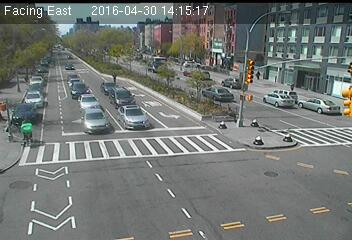neg: (12, 111, 39, 146), (110, 40, 132, 68), (157, 36, 176, 61), (34, 46, 49, 67), (8, 66, 23, 85), (85, 41, 99, 60)
pos: (108, 68, 121, 85), (287, 80, 298, 94), (253, 68, 263, 82)
